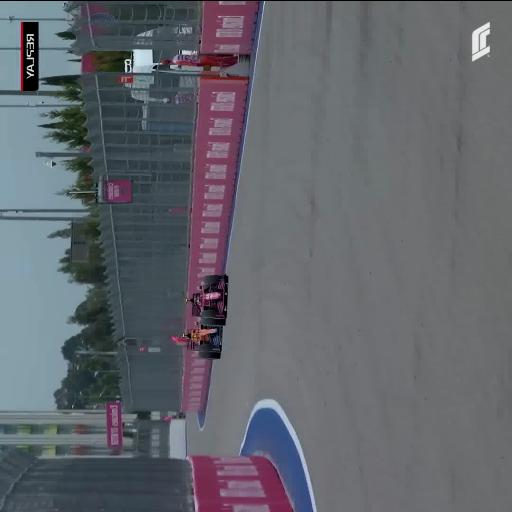f1_car: (185, 274, 227, 325), (182, 322, 221, 358)
